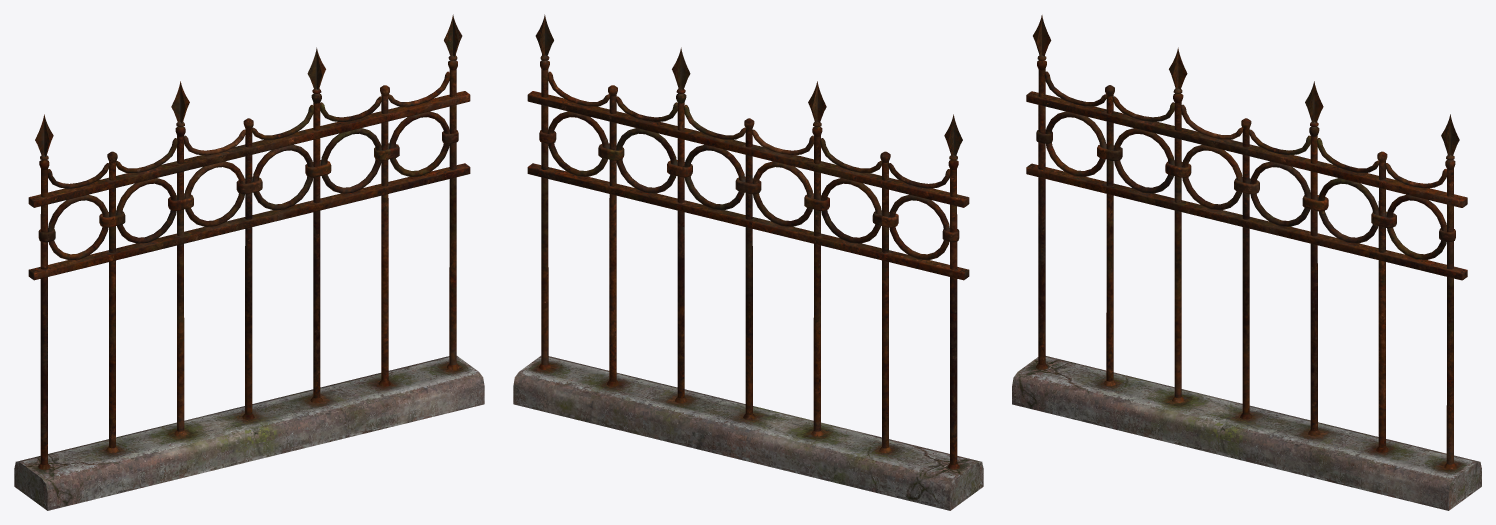
The model's file is SM_fence_01.fbx.
3 views of the same model, side by side, from view 1: azimuth 30°, elevation 25°; view 2: azimuth 150°, elevation 25°; view 3: azimuth 330°, elevation 25° (orthographic).
Parts seen in each view (by area): view 1: SM_fence_01; view 2: SM_fence_01; view 3: SM_fence_01.
Boxes of the visible parts, left/top/right/bottom form: SM_fence_01: left=14, top=14, right=484, bottom=510; SM_fence_01: left=513, top=14, right=983, bottom=510; SM_fence_01: left=1012, top=15, right=1481, bottom=510.
Size of the model in its own units: 97.07 by 81.05 by 12.76.
